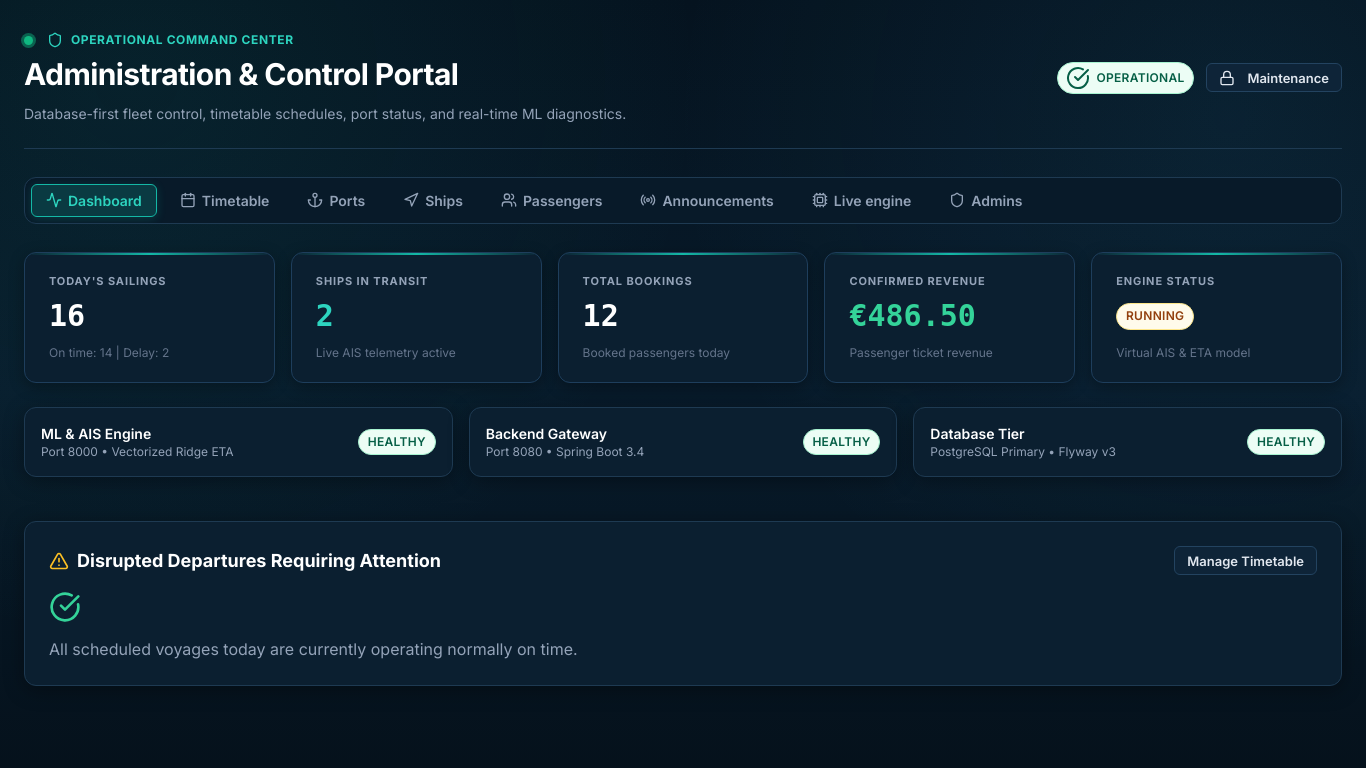
Test: AdminPage Component › switches to Ships tab and displays fleet status
Click the button "Ships" at (433, 200), box [388,184,478,217]
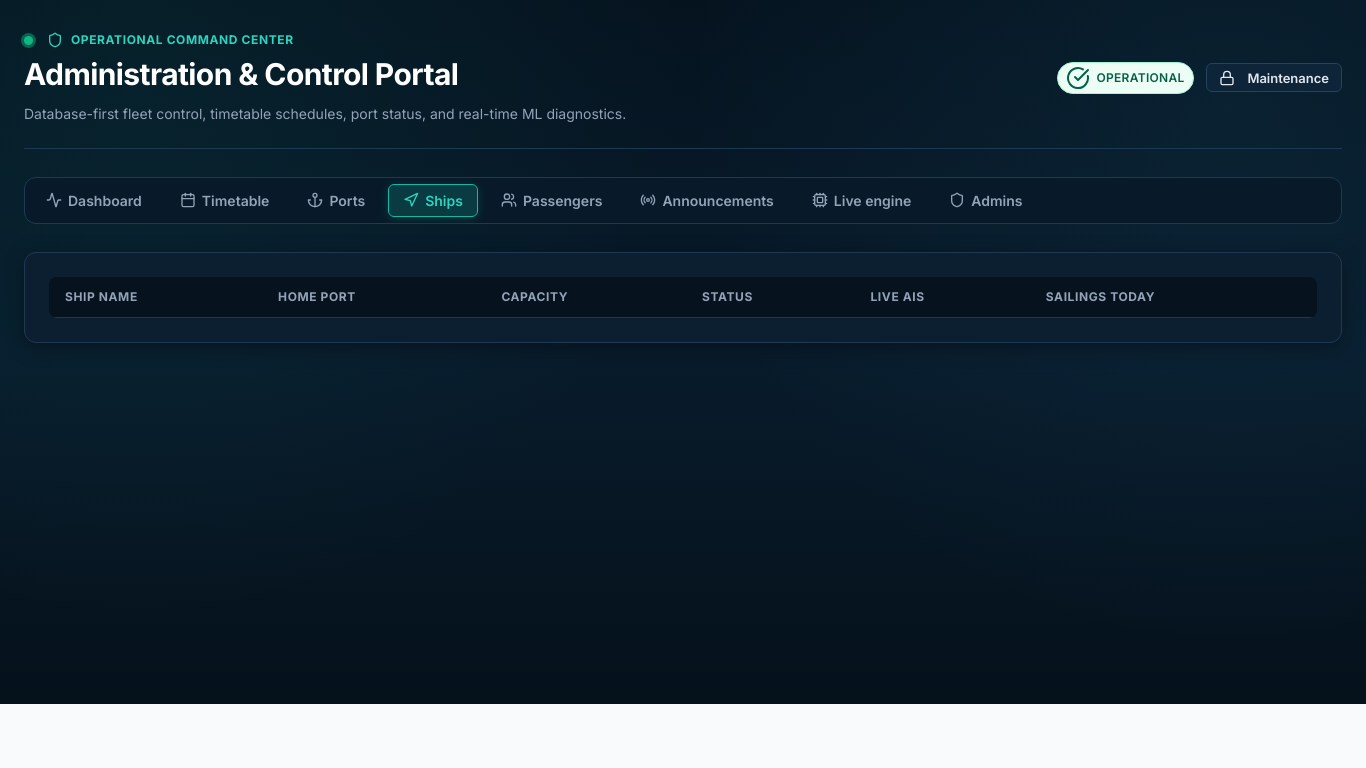
Expected: the column heading "Live AIS" is shown, [854,277,1030,318]
Now the column heading "Ship Name" is shown, box [49,277,262,318]
Now the column heading "Home Port" is shown, box [262,277,485,318]
